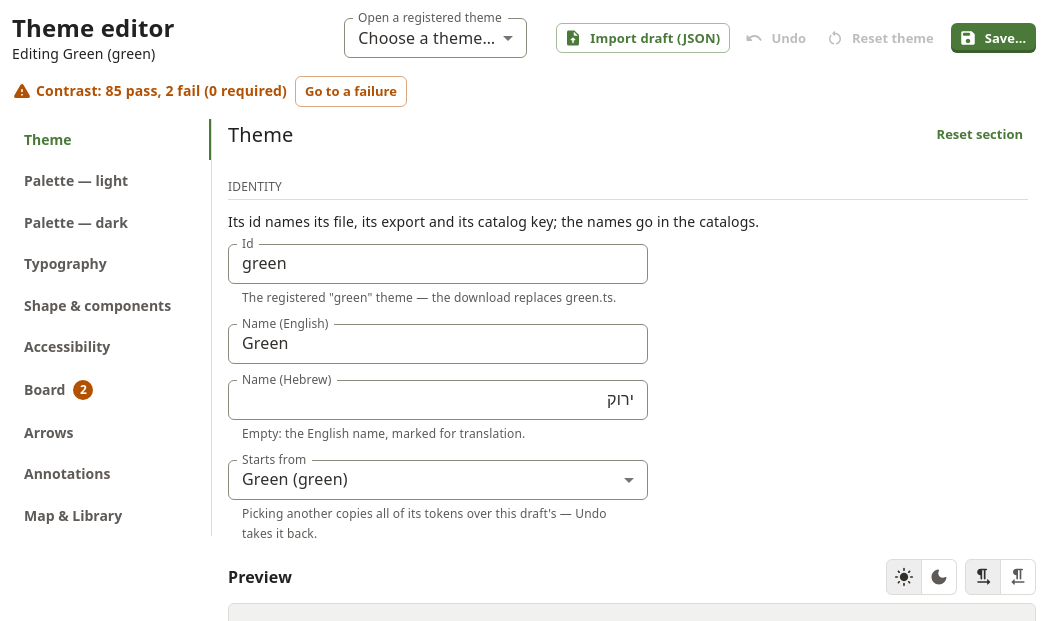
Test case: the theme editor › opens the reader's own theme without ?theme=, and any registered theme on request
The width and height of the screenshot is (1048, 621).
Expected: the field labelled "Id" holds "green", [228,244,648,284]
Click the dropdown named "Open a registered theme" at x=427, y=38, box [358,26,495,48]
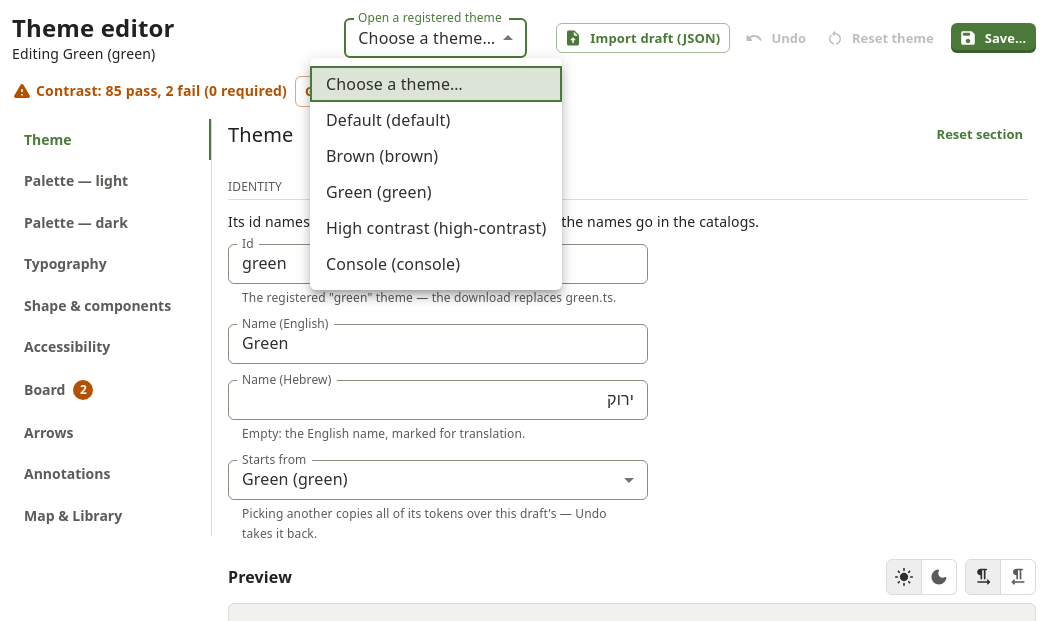
Click the option "High contrast (high-contrast)" at x=436, y=228, box [310,210,562,246]
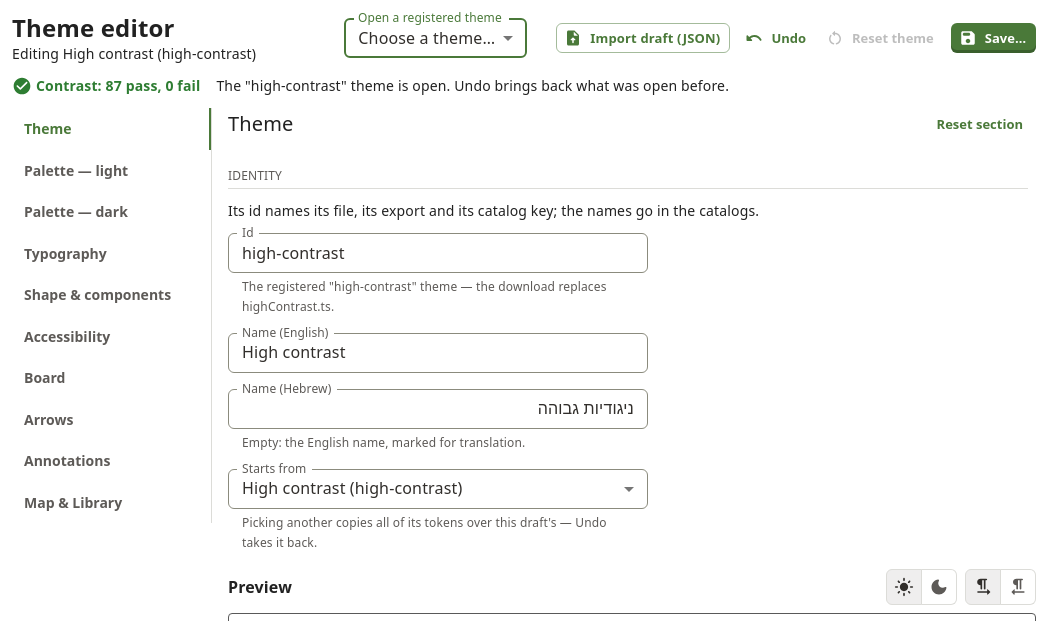
Expected: the field labelled "Id" holds "high-contrast", [228,233,648,273]
Expected: the message with test id "theme-editor-notice" shows "The \"high-contrast\" theme is open.", [216,76,729,95]
